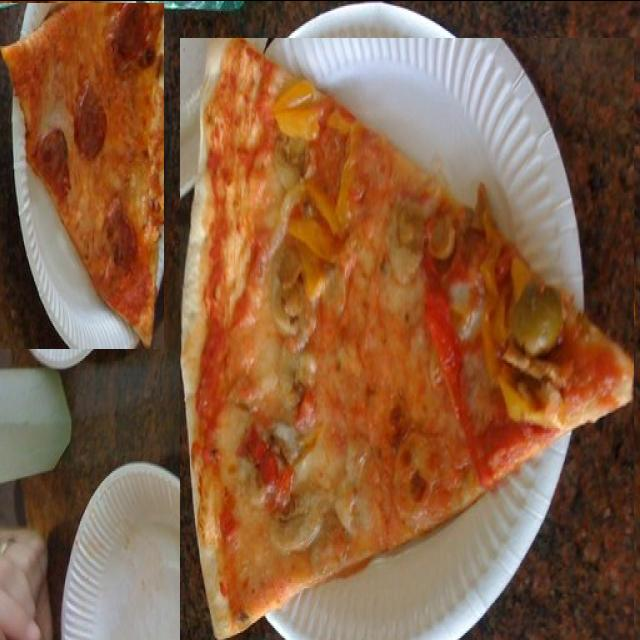olive: (512, 325, 563, 389)
pepperoni: (92, 127, 130, 201), (58, 82, 92, 161), (12, 0, 49, 64), (27, 208, 59, 270)
pizza: (180, 37, 634, 640), (0, 2, 164, 348)
